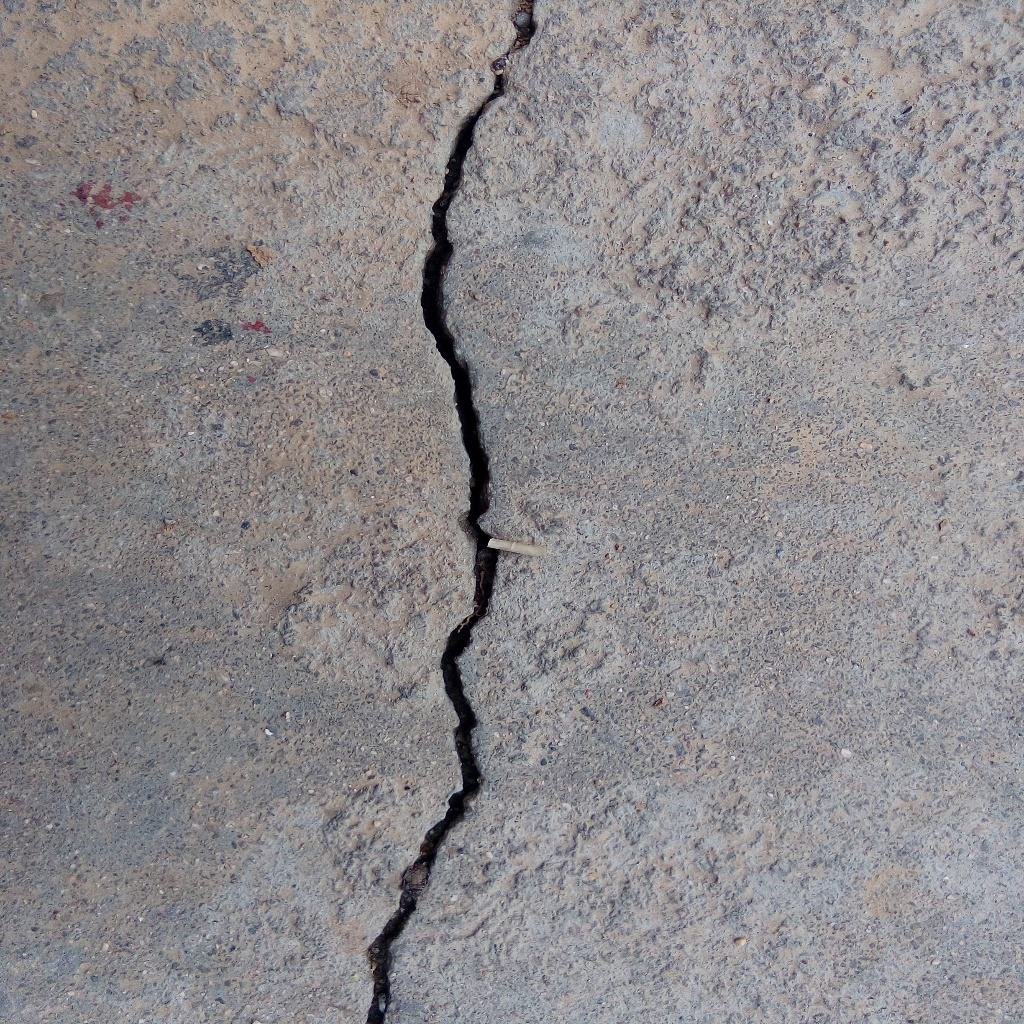Crack: (364, 1, 539, 1024)
